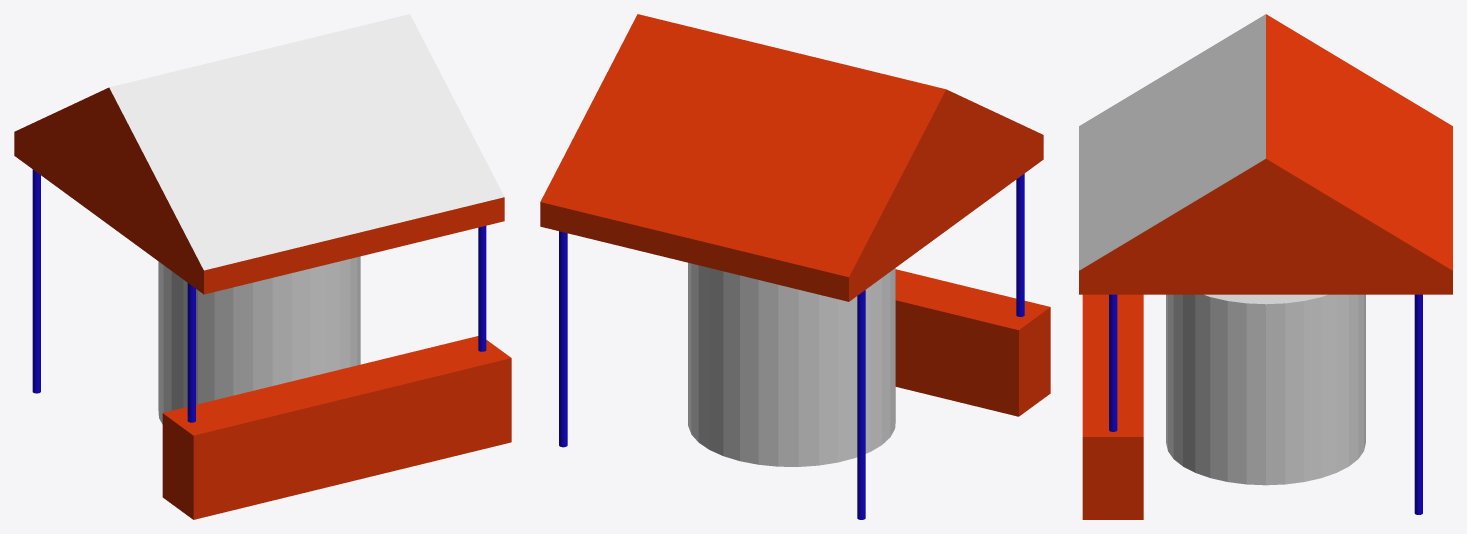
The model's file is EquipmentShop.fbx.
3 renders of one model, left to right at view 1: azimuth 30°, elevation 25°; view 2: azimuth 150°, elevation 25°; view 3: azimuth 270°, elevation 25°, orthographic. The views are drawn at different scales.
Parts seen in each view (by area): view 1: Shop; view 2: Shop; view 3: Shop.
Part boxes in pixels (<box>): Shop: <box>14,14,511,519</box>; Shop: <box>540,14,1050,519</box>; Shop: <box>1079,14,1452,519</box>.
Size of the model in its own units: 296 by 322 by 306.
